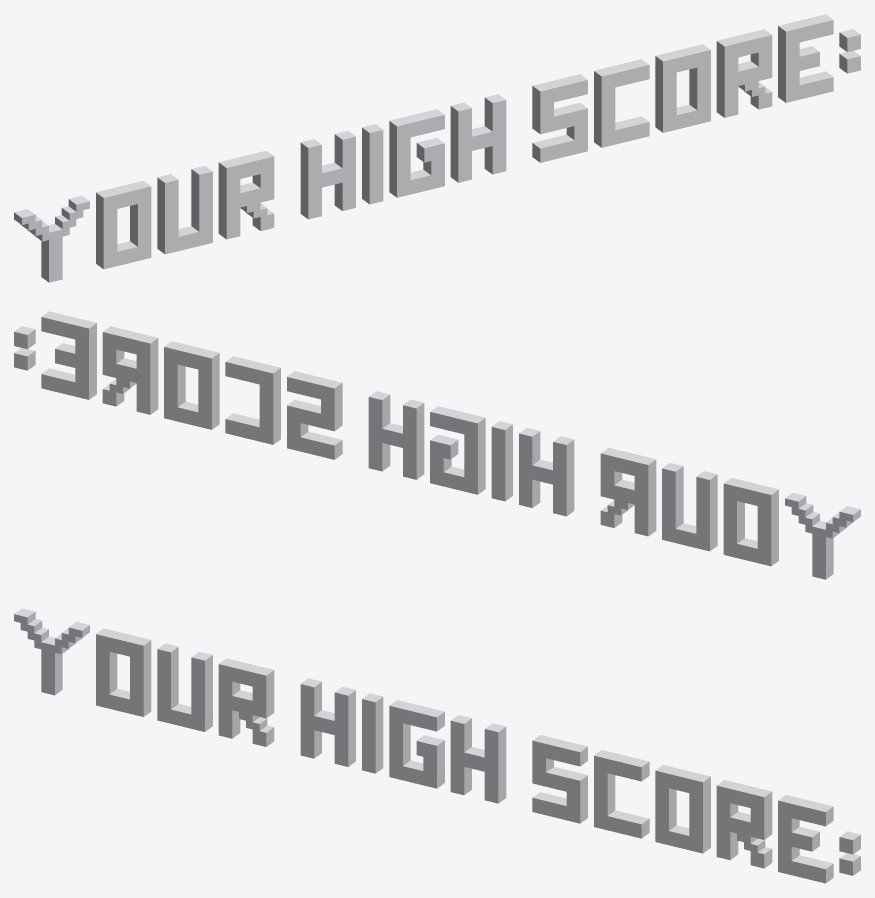
Rendered from your-high-score.obj.
3 views of the same model, one above another, from view 1: azimuth 30°, elevation 25°; view 2: azimuth 150°, elevation 25°; view 3: azimuth 330°, elevation 25° (orthographic).
Visible parts, largest first — view 1: Matrix_6; view 2: Matrix_6; view 3: Matrix_6.
Part boxes in pixels (x1,y1,x2,y2): Matrix_6: (14, 14, 860, 282); Matrix_6: (14, 311, 860, 579); Matrix_6: (14, 608, 860, 883).
Size of the model in its own units: 123 by 10 by 2.
1 material, 1 textured.
